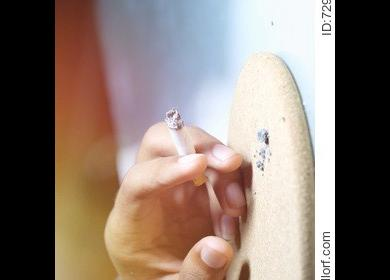Cigarette: (163, 109, 206, 184)
